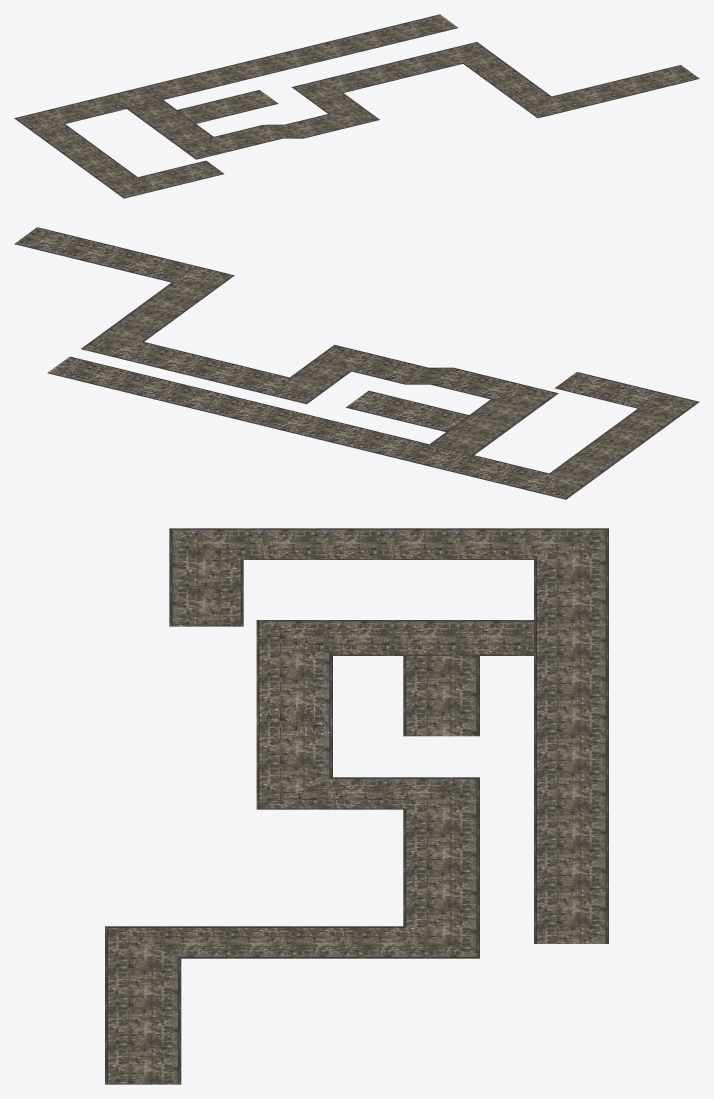
The model's file is Old_PhoenixCastle_Hallway_destruct_wall02.FBX.
The picture shows the model from 3 angles, top to bottom: view 1: azimuth 30°, elevation 25°; view 2: azimuth 150°, elevation 25°; view 3: azimuth 270°, elevation 25°; orthographic projection. The views are drawn at different scales.
Visible parts, largest first — view 1: Object012; view 2: Object012; view 3: Object012.
Part boxes in pixels (<box>): Object012: <box>14,14,699,198</box>; Object012: <box>14,227,699,499</box>; Object012: <box>105,528,608,1084</box>.
Size of the model in its own units: 11863 by 102 by 4622.
Materials: 1 (1 with a texture image).
